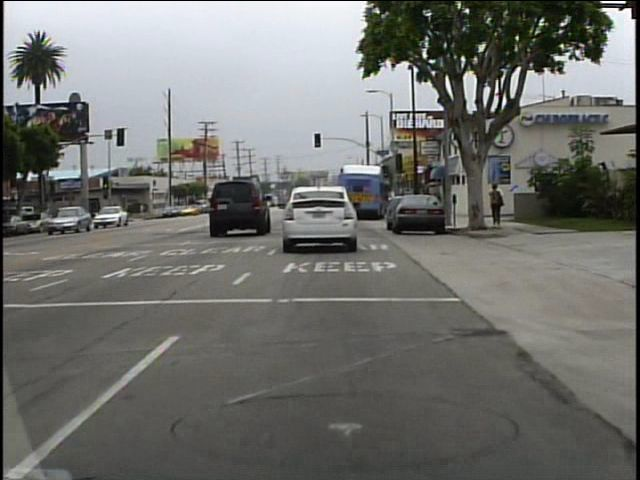person: (485, 180, 505, 228), (489, 182, 504, 225), (137, 199, 149, 220)
